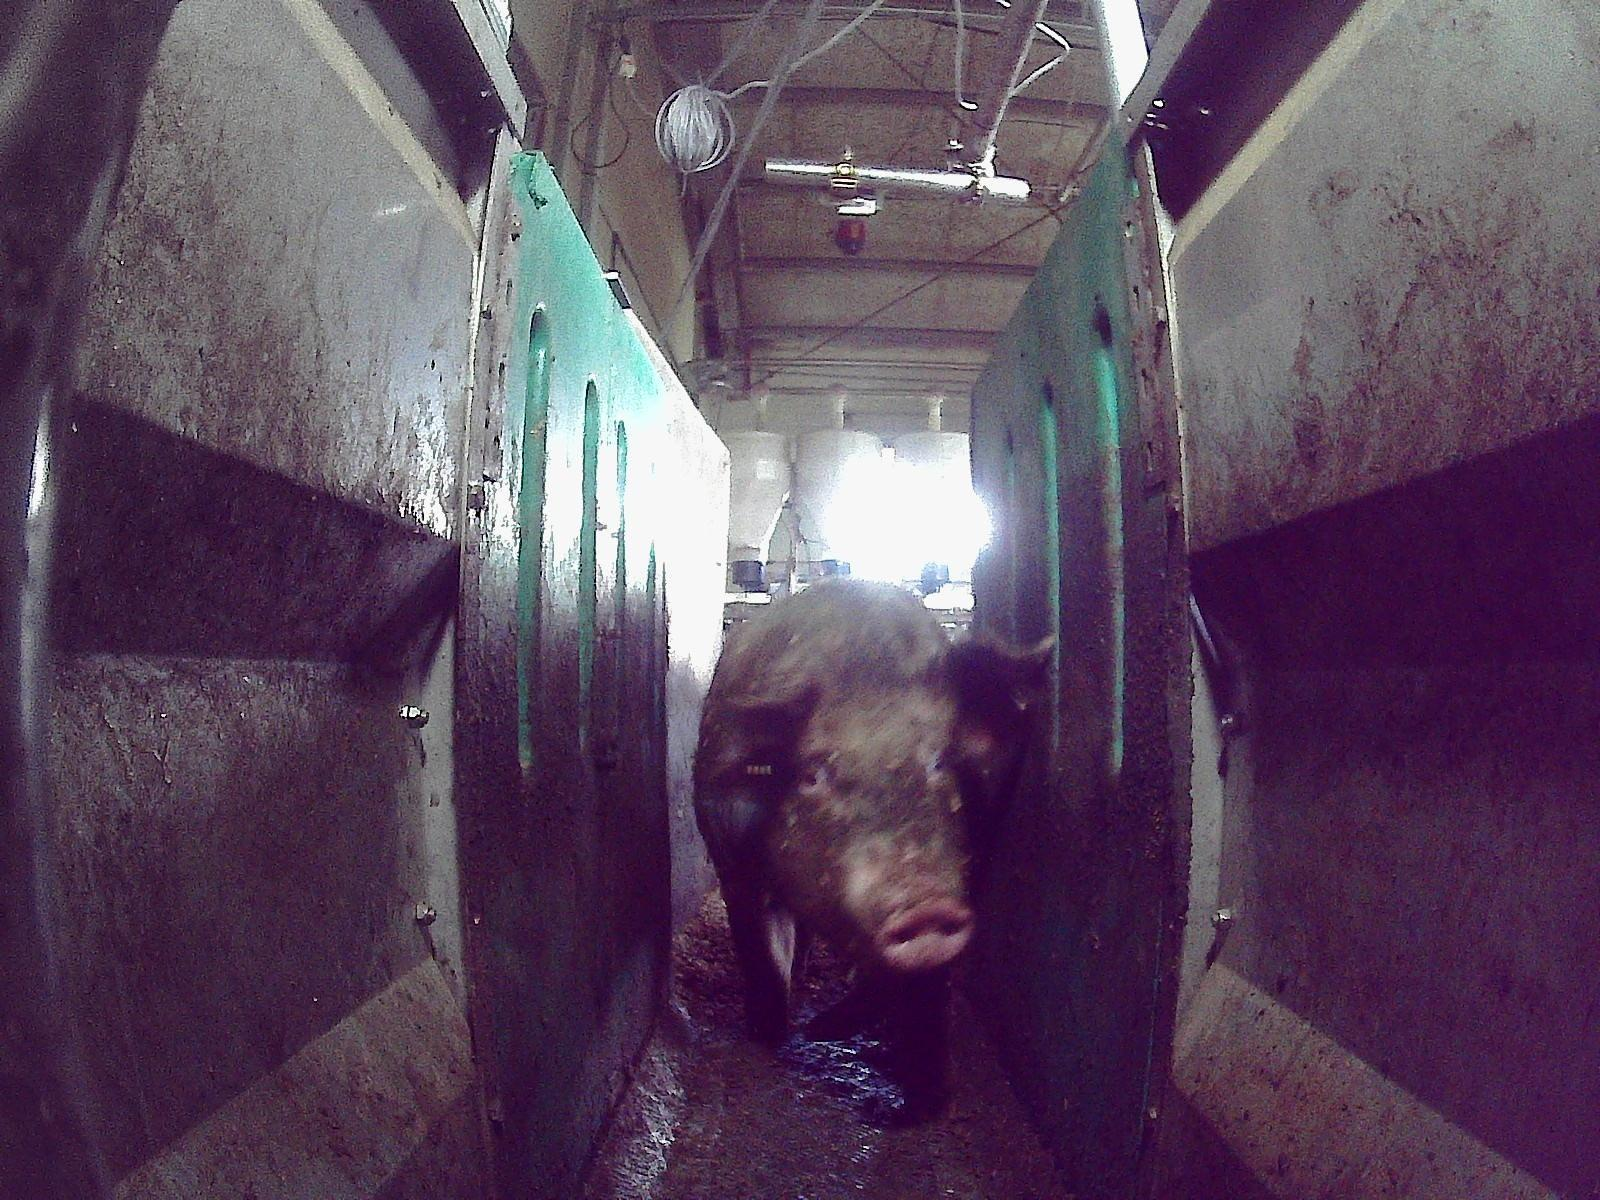Face: (769, 662, 981, 969)
